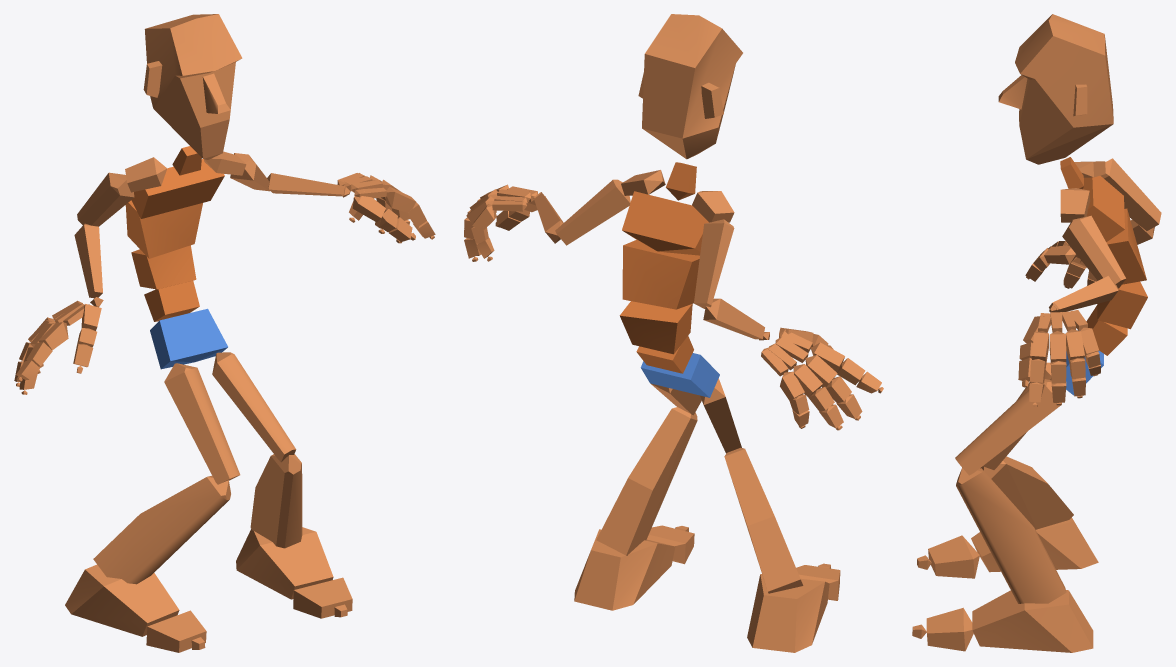
File: prueba282.obj
3 renders of one model, left to right at view 1: azimuth 30°, elevation 25°; view 2: azimuth 150°, elevation 25°; view 3: azimuth 270°, elevation 25°, orthographic. The views are drawn at different scales.
Visible parts, largest first — view 1: BOPED_Head, BOPED_R_leg, BOPED_R_foot, BOPED_R_foot01, BOPED_L_leg, BOPED_R_legup, Bone01, BOPED_L_legup, Bone04, Bone05, Bone03, BOPED_R_arm_upper (+9 smaller); view 2: BOPED_Head, BOPED_L_leg, BOPED_R_foot01, BOPED_R_foot, BOPED_R_leg, Bone04, Bone05, Bone03, BOPED_R_arm_upper, BOPED_L_arm_upper, Bone01, BOPED_R_legup (+9 smaller); view 3: BOPED_Head, BOPED_L_leg, BOPED_R_foot01, BOPED_L_legup, BOPED_R_leg, BOPED_R_foot, BOPED_L_arm_upper, Bone05, BOPED_R_arm_upper, BOPED_R_foot_toe01, BOPED_R_foot_toe04, Bone03 (+12 smaller).
Boxes of the visible parts, <box> form: BOPED_Head: <box>143,14,242,159</box>; BOPED_R_leg: <box>93,475,230,584</box>; BOPED_R_foot: <box>65,564,179,636</box>; BOPED_R_foot01: <box>236,527,333,599</box>; BOPED_L_leg: <box>250,454,302,548</box>; BOPED_R_legup: <box>164,363,240,484</box>; Bone01: <box>150,308,227,369</box>; BOPED_L_legup: <box>212,352,296,462</box>; Bone04: <box>125,200,202,258</box>; Bone05: <box>131,159,224,218</box>; Bone03: <box>131,245,196,289</box>; BOPED_R_arm_upper: <box>77,172,134,226</box>; BOPED_Head: <box>638,14,742,159</box>; BOPED_L_leg: <box>596,407,697,555</box>; BOPED_R_foot01: <box>574,529,675,610</box>; BOPED_R_foot: <box>747,574,829,652</box>; BOPED_R_leg: <box>724,447,803,593</box>; Bone04: <box>622,240,699,309</box>; Bone05: <box>622,191,708,255</box>; Bone03: <box>619,301,692,354</box>; BOPED_R_arm_upper: <box>694,219,734,308</box>; BOPED_L_arm_upper: <box>555,179,630,245</box>; Bone01: <box>640,353,719,397</box>; BOPED_R_legup: <box>700,378,741,453</box>; BOPED_Head: <box>998,14,1113,164</box>; BOPED_L_leg: <box>956,468,1066,603</box>; BOPED_R_foot01: <box>972,590,1093,652</box>; BOPED_L_legup: <box>955,379,1061,475</box>; BOPED_R_leg: <box>980,456,1073,529</box>; BOPED_R_foot: <box>971,517,1098,572</box>; BOPED_L_arm_upper: <box>1062,215,1126,288</box>; Bone05: <box>1083,175,1124,241</box>; BOPED_R_arm_upper: <box>1100,158,1161,230</box>; BOPED_R_foot_toe01: <box>928,535,979,578</box>; BOPED_R_foot_toe04: <box>926,607,973,651</box>; Bone03: <box>1097,281,1147,329</box>.
Bounding box in the file's own units: 130 × 175 × 68.
